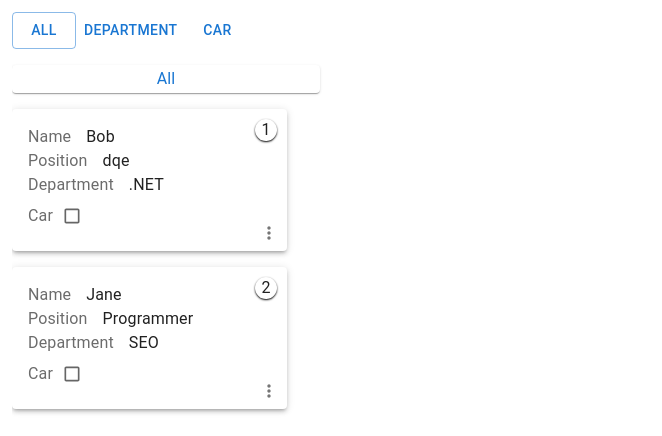
Test: GroupCardsBtn component › should be rendered icons when title is  'true' or 'false'
Click the button "Car". click: (218, 30)
box: x1=186 y1=12 x2=250 y2=48
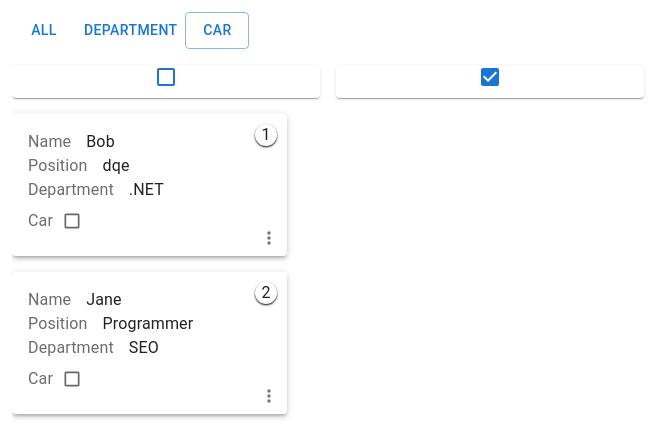
Expected: the icon with test id "groupcard-title__true" is shown, x1=478 y1=64 x2=502 y2=88
Expected: the icon with test id "groupcard-title__false" is shown, x1=154 y1=64 x2=178 y2=88
